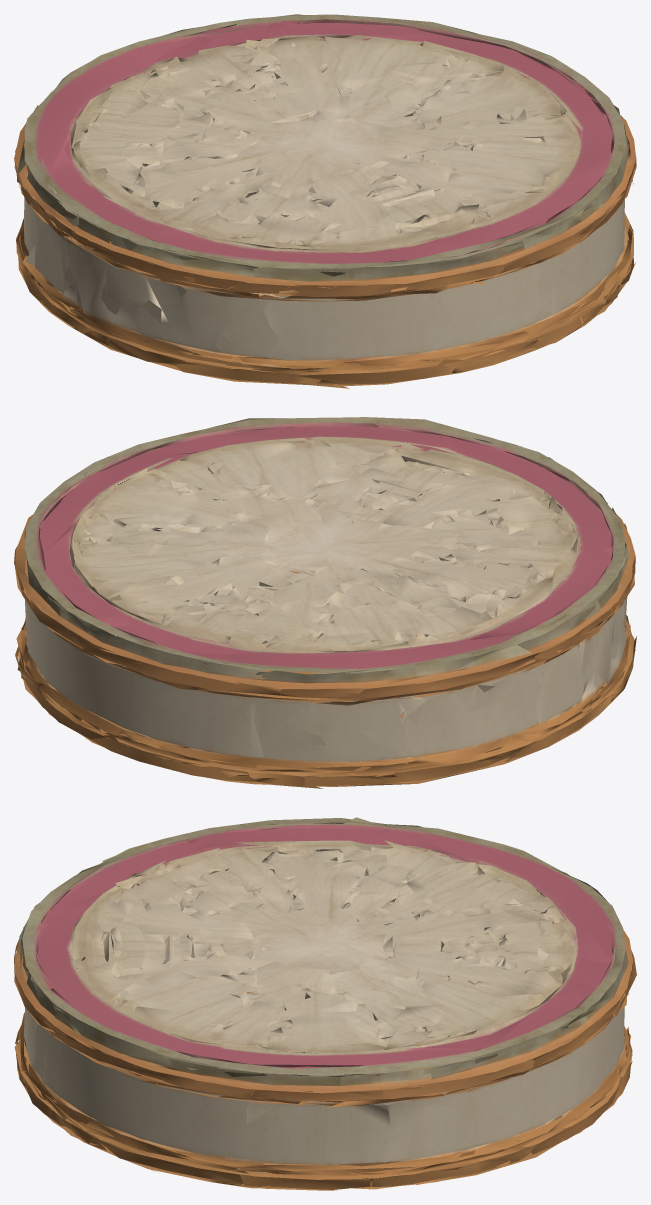
Rendered from unified--detail--teacup-deck.glb.
The picture shows the model from 3 angles, top to bottom: view 1: azimuth 30°, elevation 25°; view 2: azimuth 150°, elevation 25°; view 3: azimuth 270°, elevation 25°; orthographic projection.
Visible parts, largest first — view 1: teacup-deck-1; view 2: teacup-deck-1; view 3: teacup-deck-1.
Part boxes in pixels (x1,y1,x2,y2): teacup-deck-1: (14, 14, 636, 388); teacup-deck-1: (14, 417, 636, 788); teacup-deck-1: (14, 817, 636, 1190).
Size of the model in its own units: 1.21 by 0.2651 by 1.21.
Materials: 1 (1 with a texture image).
